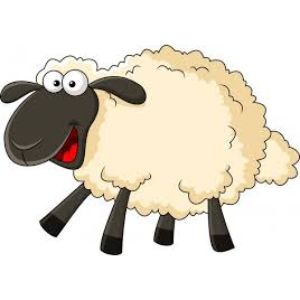sheep: (4, 45, 294, 255)
